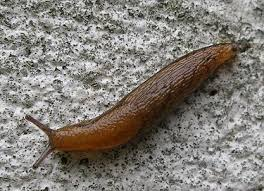slug: (30, 39, 245, 168)
